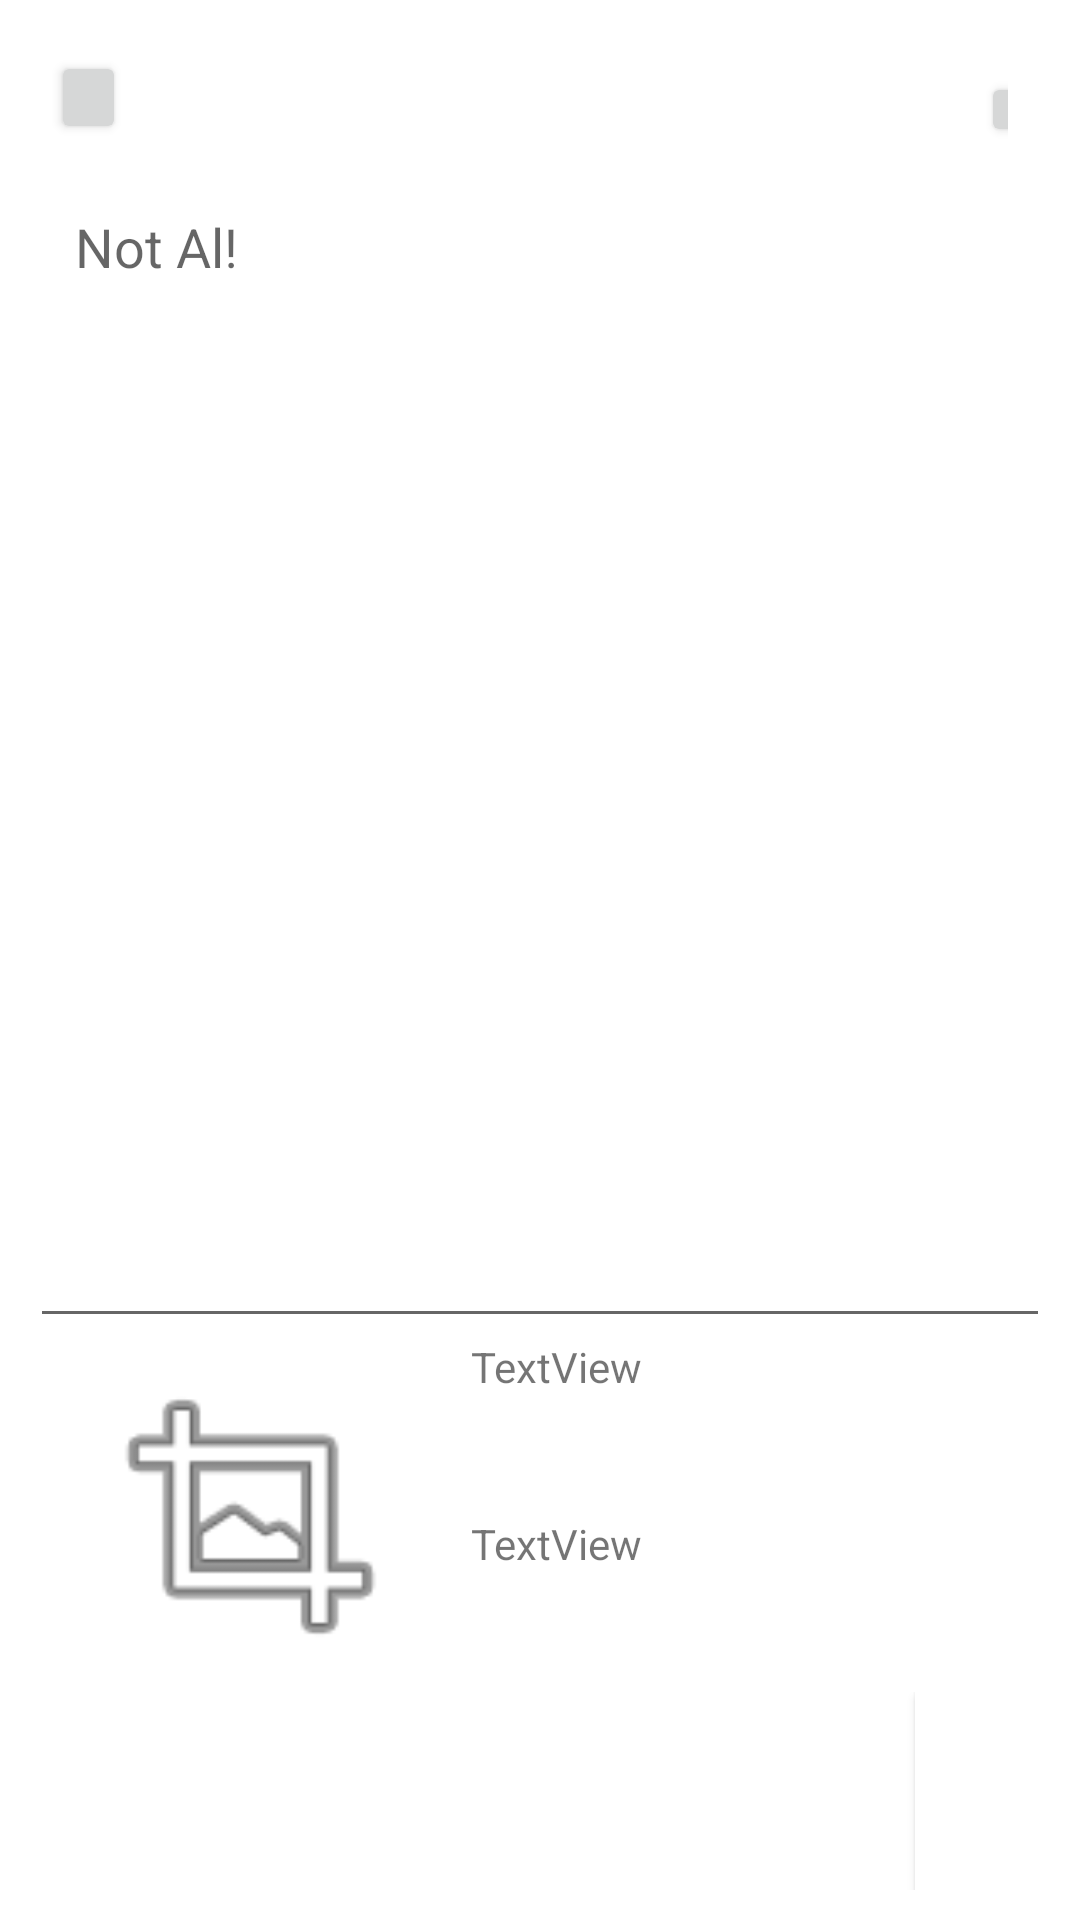

Icons on this 1080x1920 Android screen, each with the point to tap as [x,y]:
crop: [250,1516]
